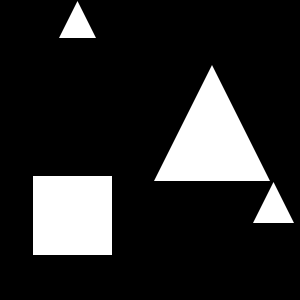circle: (33, 176, 112, 255)
triangle: (154, 65, 270, 181), (253, 182, 294, 223), (59, 1, 96, 38)
